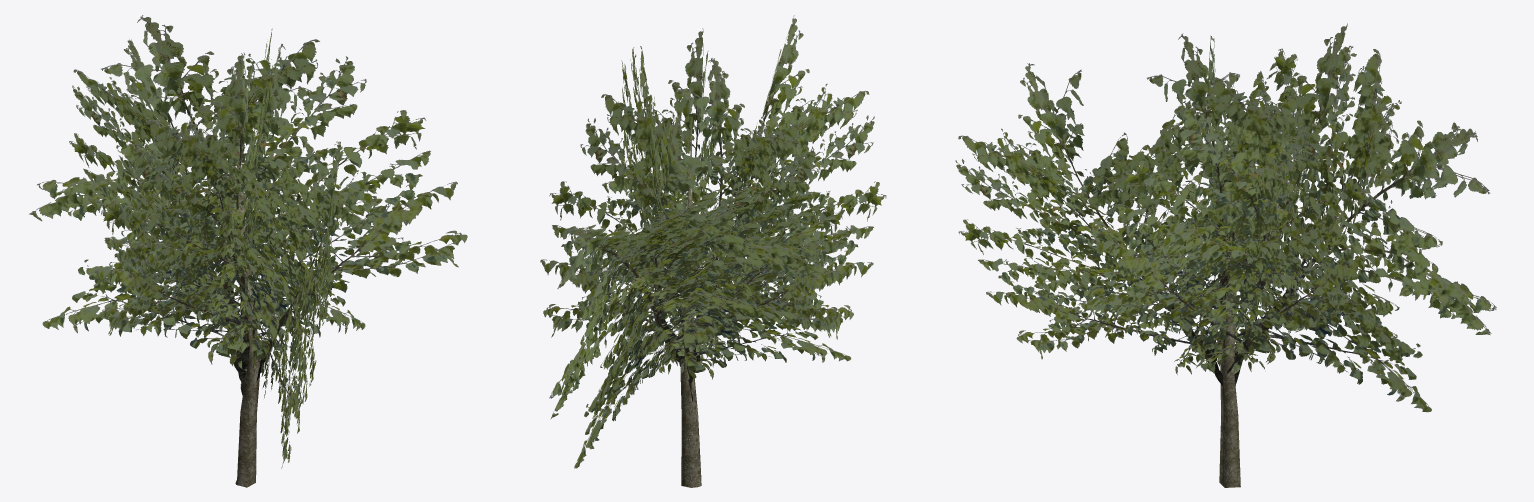
Rendered from Tree_Background.FBX.
The picture shows the model from 3 angles, left to right: view 1: azimuth 30°, elevation 25°; view 2: azimuth 150°, elevation 25°; view 3: azimuth 270°, elevation 25°; orthographic projection. The views are drawn at different scales.
Parts seen in each view (by area): view 1: Tree_Background; view 2: Tree_Background; view 3: Tree_Background.
Part boxes in pixels (bbox=[...]): Tree_Background: bbox=[29, 15, 467, 487]; Tree_Background: bbox=[540, 15, 886, 487]; Tree_Background: bbox=[955, 23, 1496, 487].
Bounding box in the file's own units: 1028 × 1244 × 1453.
